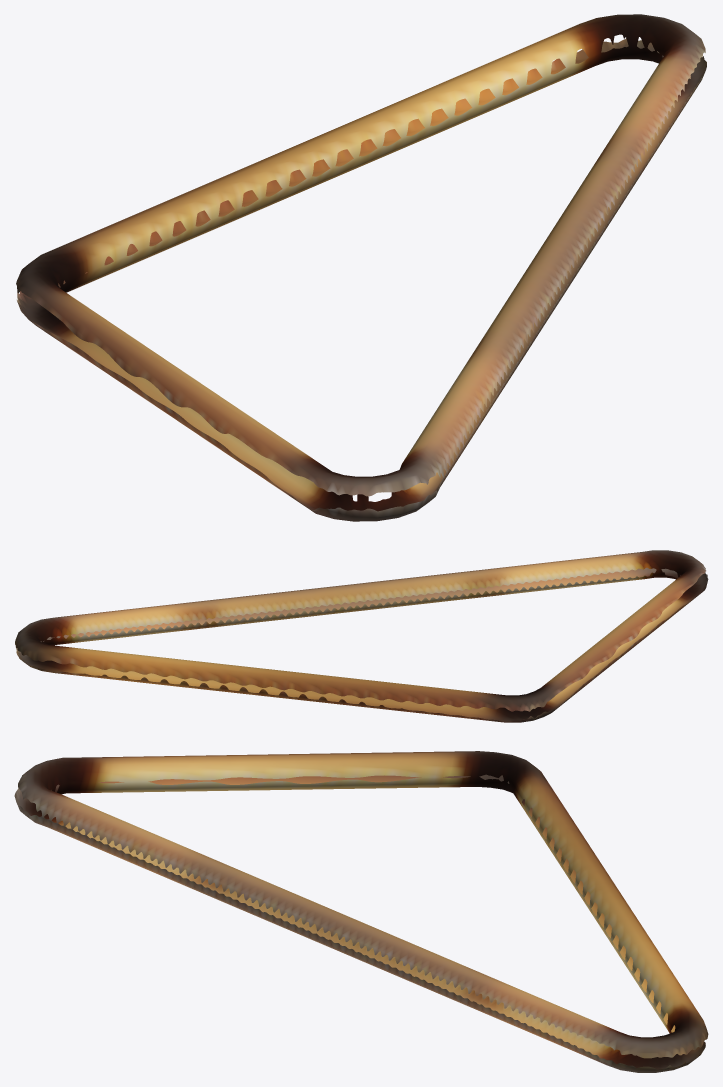
File: rsling.fbx
3 renders of one model, top to bottom at view 1: azimuth 30°, elevation 25°; view 2: azimuth 150°, elevation 25°; view 3: azimuth 270°, elevation 25°, orthographic. The views are drawn at different scales.
Visible parts, largest first — view 1: rsling; view 2: rsling; view 3: rsling.
Boxes of the visible parts, x1,y1,x2,y2 form: rsling: (16,14,706,521); rsling: (15,550,708,722); rsling: (14,751,708,1072).
Size of the model in its own units: 10.03 by 0.5054 by 9.78.
1 material, 1 textured.
